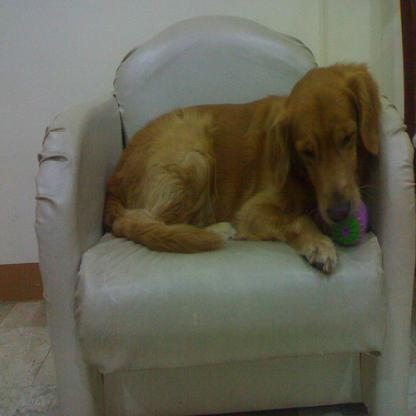chair: (36, 13, 415, 415)
dog: (103, 60, 383, 273)
